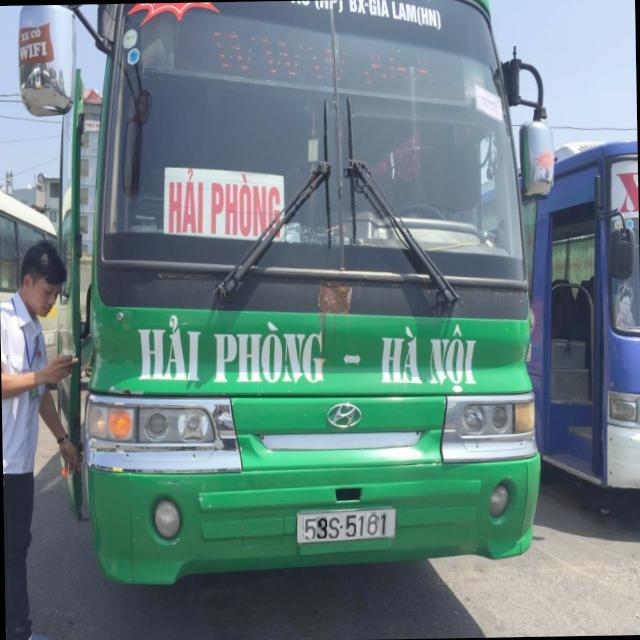car: (45, 20, 557, 591), (519, 137, 640, 538)
plate: (291, 505, 402, 548)
